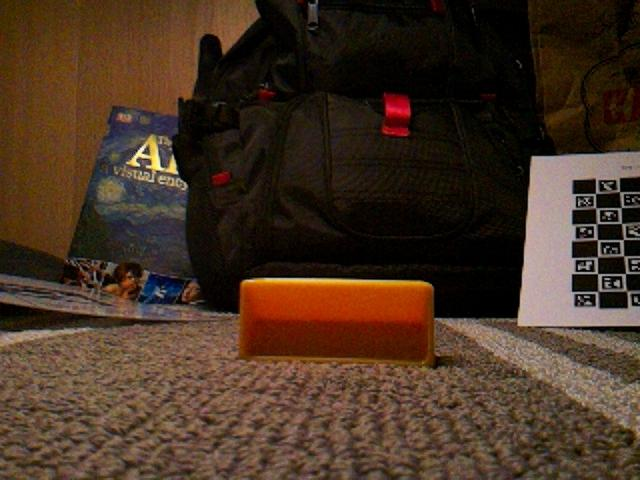yellow: (237, 277, 437, 367)
